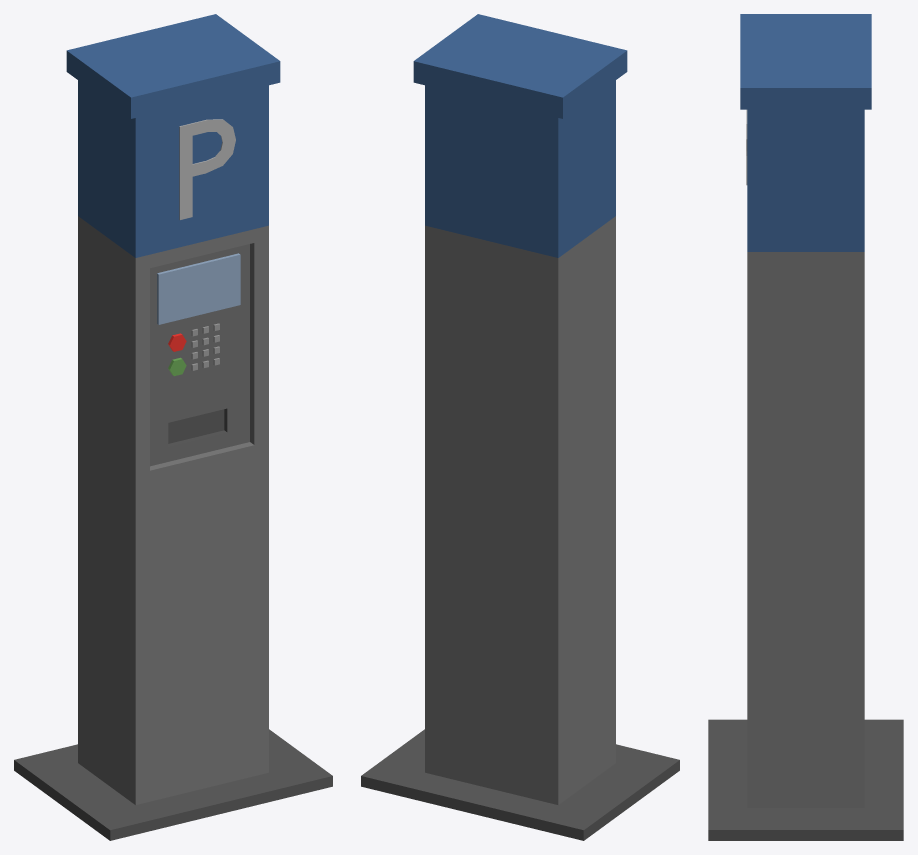
Rendered from Parking_02.fbx.
3 renders of one model, left to right at view 1: azimuth 30°, elevation 25°; view 2: azimuth 150°, elevation 25°; view 3: azimuth 270°, elevation 25°, orthographic.
Parts seen in each view (by area): view 1: Parking_02; view 2: Parking_02; view 3: Parking_02.
Boxes of the visible parts, left/top/right/bottom form: Parking_02: left=14, top=14, right=332, bottom=840; Parking_02: left=361, top=14, right=679, bottom=840; Parking_02: left=708, top=14, right=903, bottom=840.
Bounding box in the file's own units: 64.55 × 200 × 48.25.
